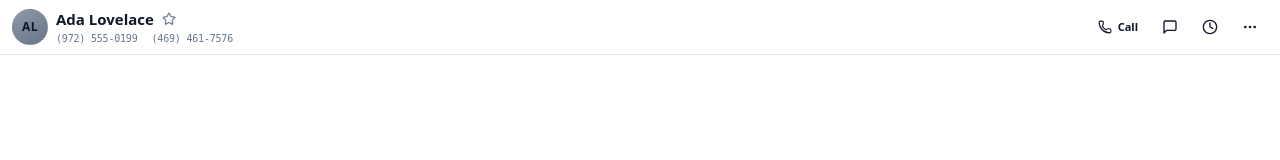
Test: ConversationHeader › shows an inline error and does not crash when the star toggle fails
Click the button named "Mark as important": (169, 19) [160,10,178,28]
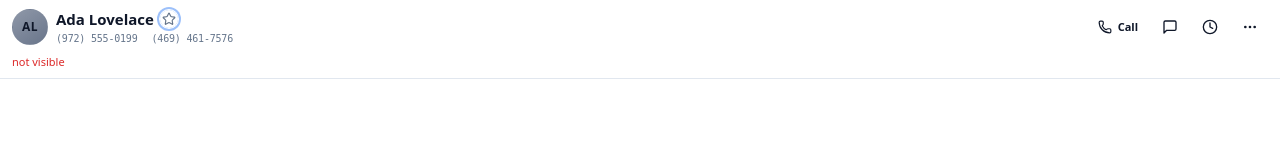
Result: the message reads "not visible" at [12,54,65,68]
